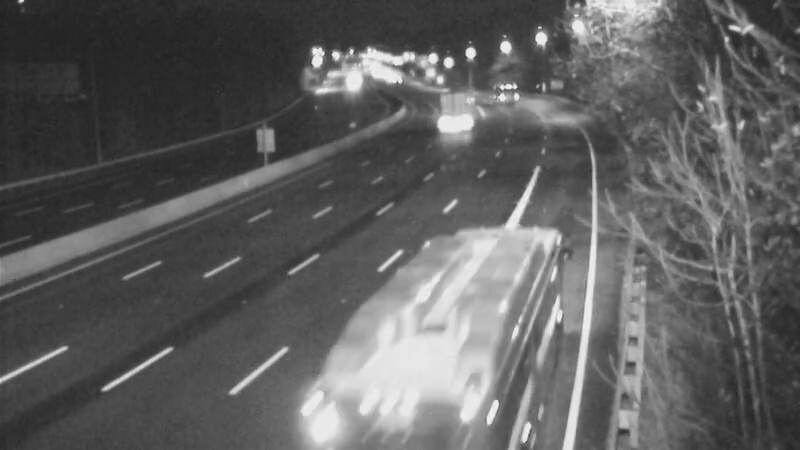vehicle: (373, 277, 483, 387), (476, 65, 526, 115), (422, 81, 472, 131), (326, 57, 376, 107)
